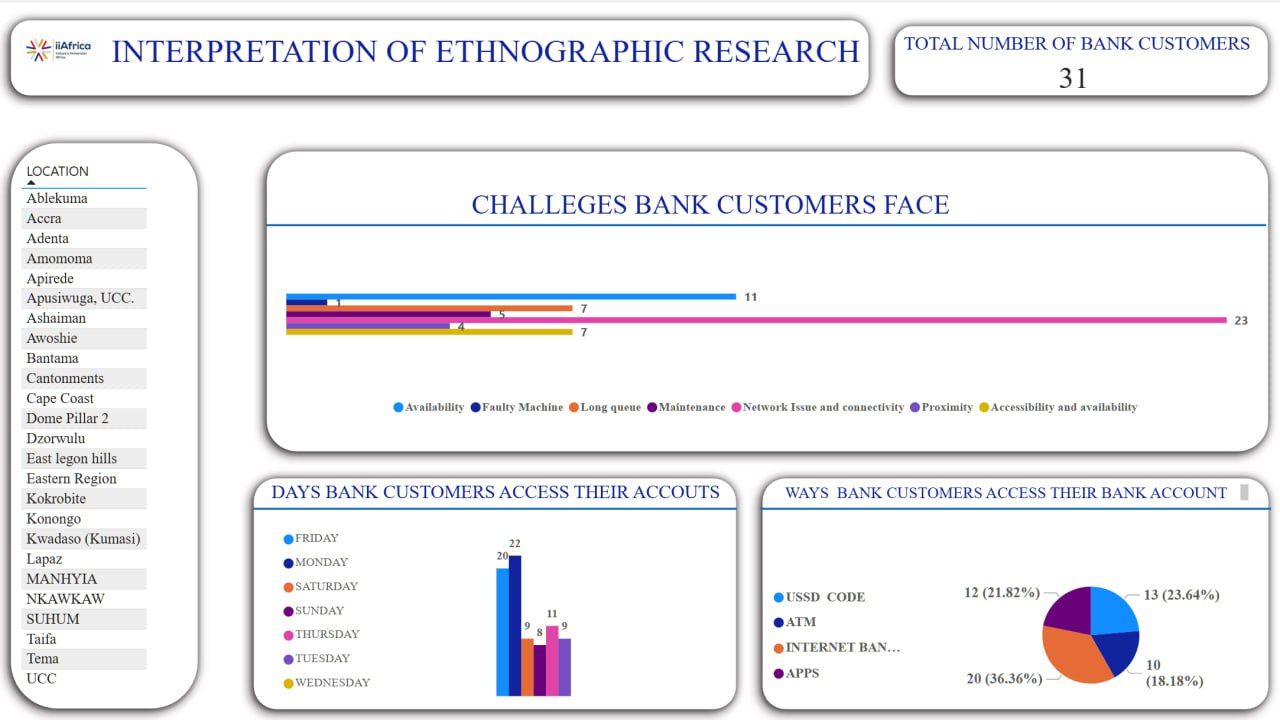

Layout of this report page (visuals, bound fields, positions):
{"tool":"powerbi","page":{"name":"Page 2","canvas":[1280,720],"ordinal":0},"visuals":[{"type":"shape","box":[0,128.9,212.7,590.9],"z":0},{"type":"shape","box":[749.2,463.6,530.8,257],"z":1000},{"type":"shape","box":[241.9,463.6,507.3,257],"z":2000},{"type":"shape","box":[881.4,12.4,398.3,95.5],"z":3000},{"type":"shape","box":[255.2,137.4,1024.8,325.9],"z":4000},{"type":"shape","box":[0,6.5,881.5,101.4],"z":5000},{"type":"tableEx","fields":{"Values":["Form responses 1 (3).LOCATION"]},"box":[17.7,155.1,189.8,539.2],"z":6000},{"type":"clusteredBarChart","fields":{"Y":["Form responses 1 (3).Availability","Form responses 1 (3).Faulty Machine","Form responses 1 (3).Long queue","Form responses 1 (3).Maintenance","Form responses 1 (3).Network Issue and connectivity","Form responses 1 (3).Proximity","Form responses 1 (3).Accessibility and availability"]},"box":[282.7,224.5,969.8,200.2],"z":7000},{"type":"clusteredColumnChart","fields":{"Y":["Form responses 1 (3).FRIDAY","Form responses 1 (3).MONDAY","Form responses 1 (3).SATURDAY","Form responses 1 (3).SUNDAY","Form responses 1 (3).THURSDAY","Form responses 1 (3).TUESDAY","Form responses 1 (3).WEDNESDAY"]},"box":[279.4,518.3,431.9,181.9],"z":8000},{"type":"pieChart","fields":{"Y":["Form responses 1 (3).USSD  CODE","Form responses 1 (3).ATM","Form responses 1 (3).INTERNET BANKIG","Form responses 1 (3).APPS"]},"box":[767.6,566.7,497.3,133.5],"z":9000},{"type":"card","fields":{"Values":["Form responses 1 (3).Total Number"]},"box":[1024.8,55,96.9,41.9],"z":10000},{"type":"textbox","box":[108.6,26.8,774.8,55.6],"z":11000},{"type":"shape","box":[268.3,217.9,996.6,12.4],"z":12000},{"type":"textbox","box":[322,183.9,778.7,40.6],"z":13000},{"type":"shape","box":[255.2,500.6,481.6,13.1],"z":14000},{"type":"textbox","box":[268.3,475.1,481,32.1],"z":15000},{"type":"shape","box":[760.4,500.6,509.1,13.1],"z":16000},{"type":"textbox","box":[780,477.7,472.5,26.8],"z":17000},{"type":"textbox","box":[898.5,26.8,366.5,32.1],"z":18000},{"type":"image","box":[17.7,18.3,94.9,64.1],"z":19000}]}

Visuals, with their boxes in screenshot pixels (x1, y1, x2, y2), scaled from the page's 1280x720 canvas onto the 1280x720 screenshot:
shape: BBox(0, 129, 213, 719)
shape: BBox(749, 464, 1279, 719)
shape: BBox(242, 464, 749, 719)
shape: BBox(881, 12, 1279, 108)
shape: BBox(255, 137, 1279, 463)
shape: BBox(0, 6, 882, 108)
tableEx - Form responses 1 (3).LOCATION: BBox(18, 155, 208, 694)
clusteredBarChart - Form responses 1 (3).Availability x Form responses 1 (3).Faulty Machine: BBox(283, 224, 1252, 425)
clusteredColumnChart - Form responses 1 (3).FRIDAY x Form responses 1 (3).MONDAY: BBox(279, 518, 711, 700)
pieChart - Form responses 1 (3).USSD  CODE x Form responses 1 (3).ATM: BBox(768, 567, 1265, 700)
card - Form responses 1 (3).Total Number: BBox(1025, 55, 1122, 97)
textbox: BBox(109, 27, 883, 82)
shape: BBox(268, 218, 1265, 230)
textbox: BBox(322, 184, 1101, 224)
shape: BBox(255, 501, 737, 514)
textbox: BBox(268, 475, 749, 507)
shape: BBox(760, 501, 1270, 514)
textbox: BBox(780, 478, 1252, 504)
textbox: BBox(898, 27, 1265, 59)
image: BBox(18, 18, 113, 82)
